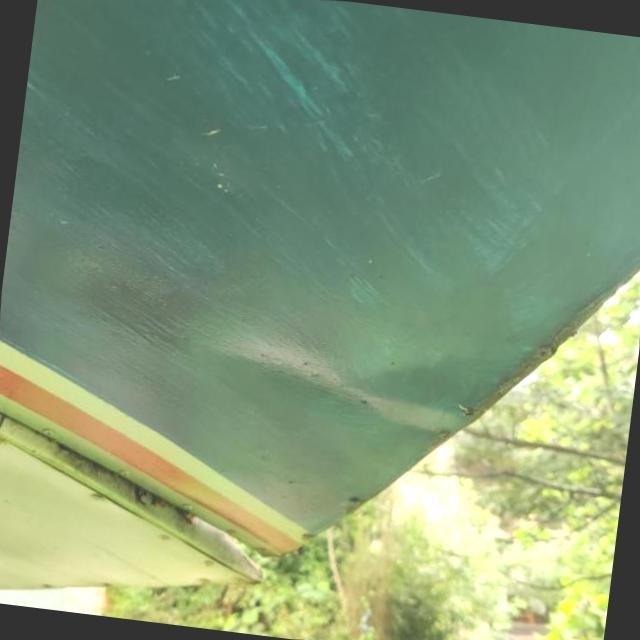dent: (171, 255, 516, 528)
